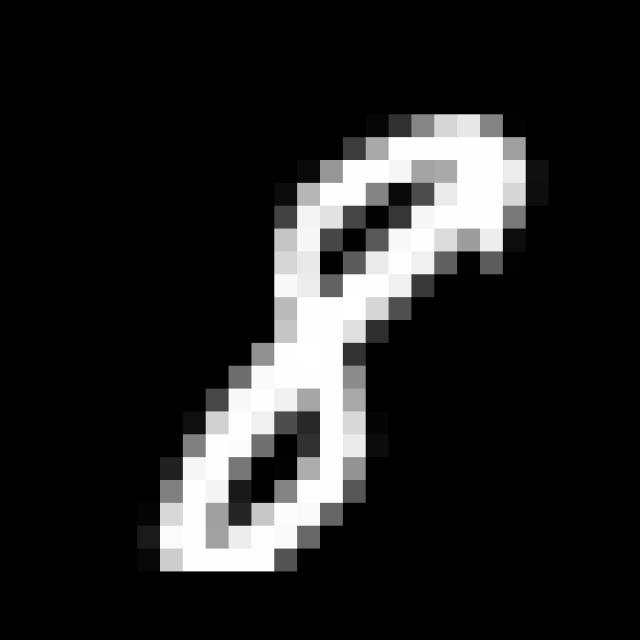eight -8-: (140, 108, 542, 576)
